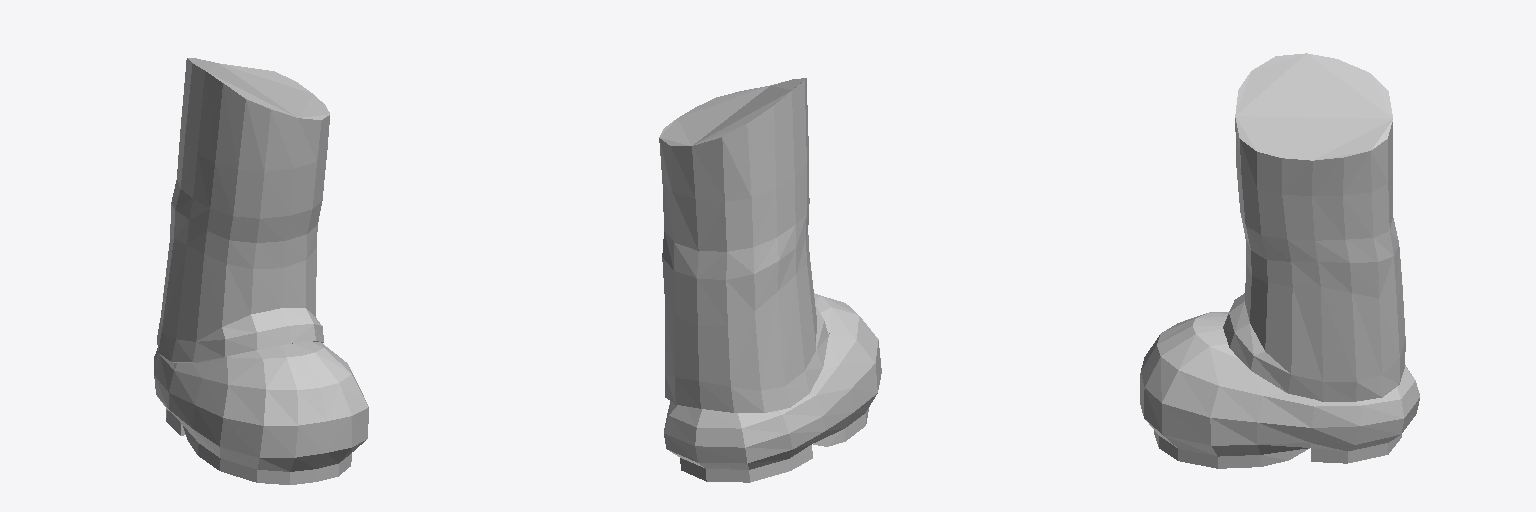
Rendered from piernaDerechaAvatar.obj.
3 views of the same model, side by side, from view 1: azimuth 30°, elevation 25°; view 2: azimuth 150°, elevation 25°; view 3: azimuth 270°, elevation 25° (orthographic).
Parts seen in each view (by area): view 1: body.001; view 2: body.001; view 3: body.001.
Part boxes in pixels (left/top/right/bottom): body.001: left=154, top=58, right=368, bottom=484; body.001: left=659, top=78, right=881, bottom=482; body.001: left=1140, top=53, right=1419, bottom=468.
Size of the model in its own units: 0.3354 by 0.7958 by 0.5493.